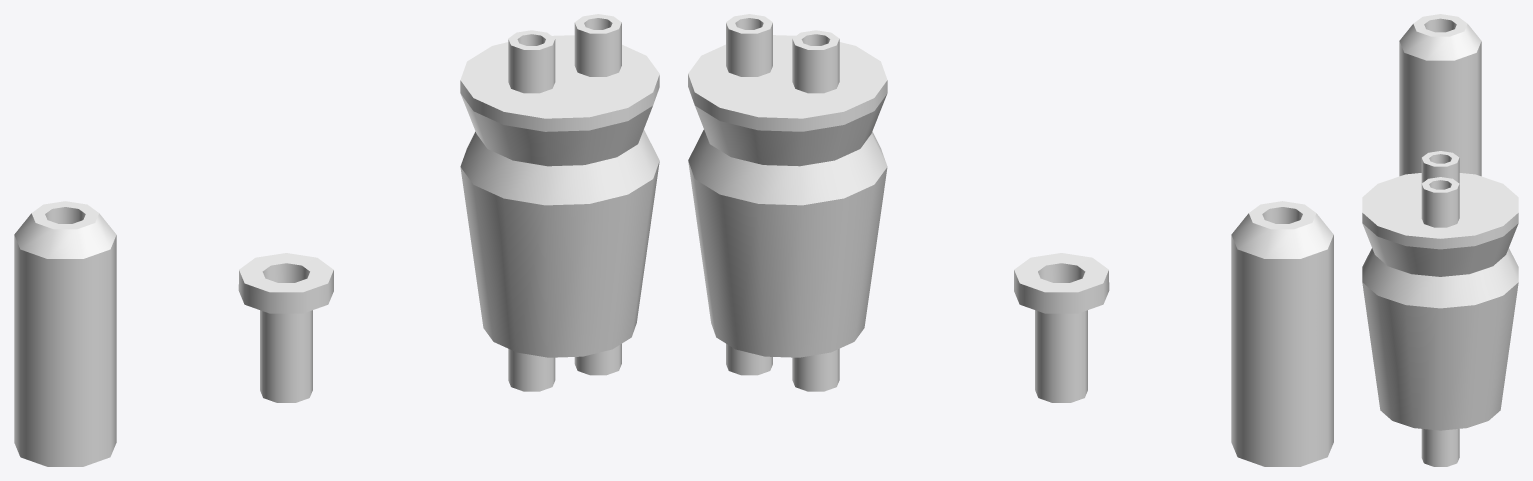
File: vacuum-probki.FBX
The picture shows the model from 3 angles, left to right: view 1: azimuth 30°, elevation 25°; view 2: azimuth 150°, elevation 25°; view 3: azimuth 270°, elevation 25°; orthographic projection. The views are drawn at different scales.
Visible parts, largest first — view 1: uzi-probka, uzi-perehod_B, uzi-perehod_S; view 2: uzi-probka, uzi-perehod_B, uzi-perehod_S; view 3: uzi-probka, uzi-perehod_B.
Boxes of the visible parts, <box> form: uzi-probka: <box>460,14,659,391</box>; uzi-perehod_B: <box>14,201,116,466</box>; uzi-perehod_S: <box>238,253,333,402</box>; uzi-probka: <box>688,14,887,391</box>; uzi-perehod_B: <box>1231,201,1333,466</box>; uzi-perehod_S: <box>1014,253,1109,402</box>; uzi-probka: <box>1362,151,1518,466</box>; uzi-perehod_B: <box>1399,14,1481,176</box>.
Size of the model in its own units: 0.0708 by 0.0369 by 0.0191.
